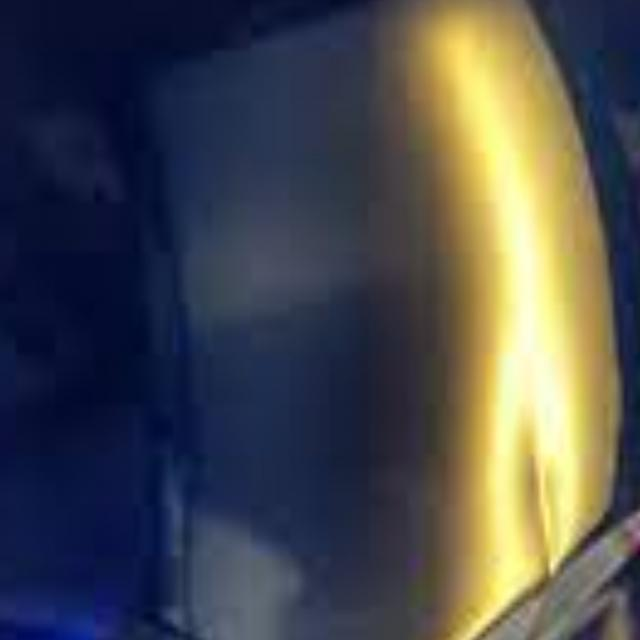dents: (513, 425, 574, 582)
